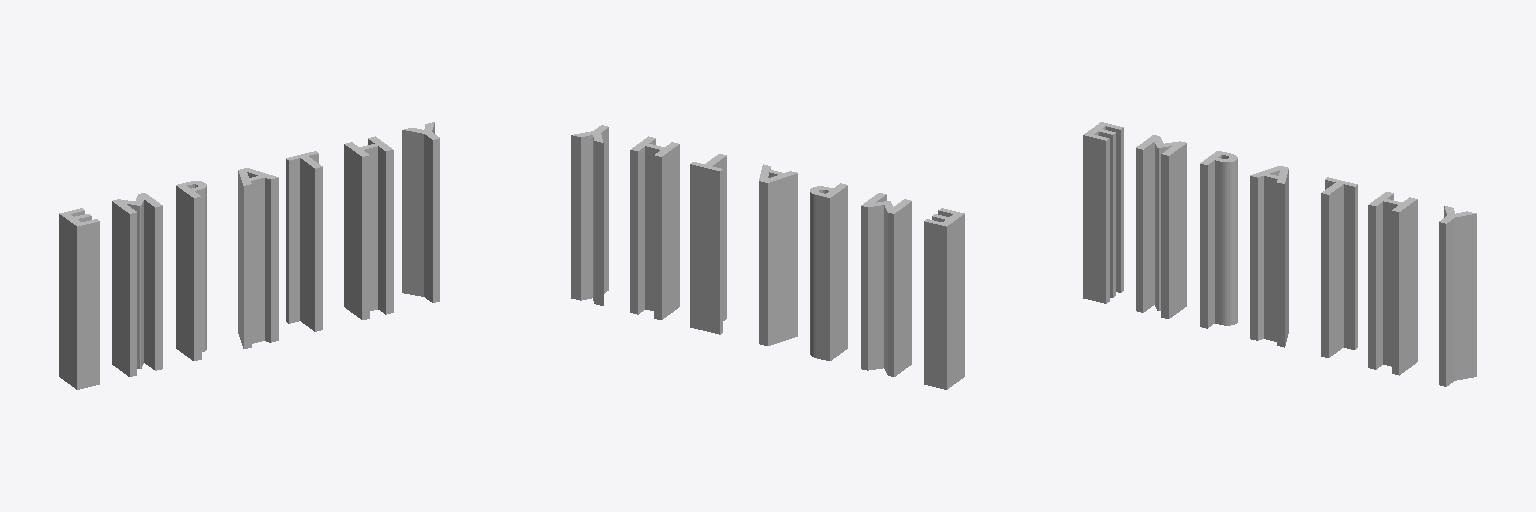
Rendered from empathyText.obj.
3 views of the same model, side by side, from view 1: azimuth 30°, elevation 25°; view 2: azimuth 150°, elevation 25°; view 3: azimuth 330°, elevation 25° (orthographic).
Bounding box in the file's own units: 12.03 × 5 × 1.